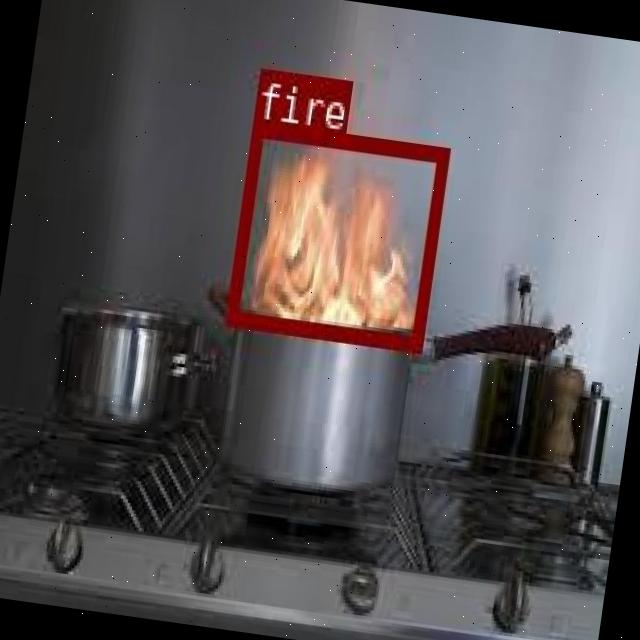fire: (225, 118, 449, 348)
